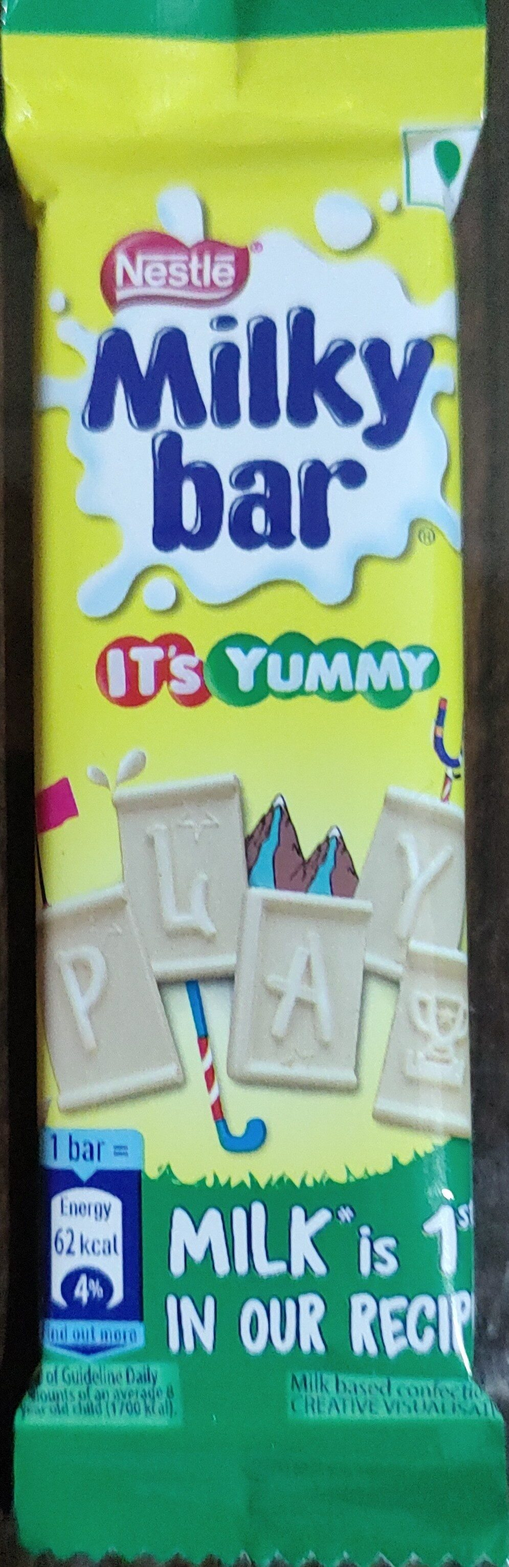milky bar: (46, 141, 463, 1426)
